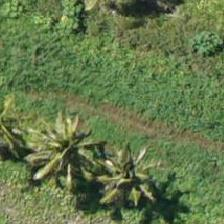coconut_tree: (84, 127, 174, 217), (16, 99, 106, 189)
